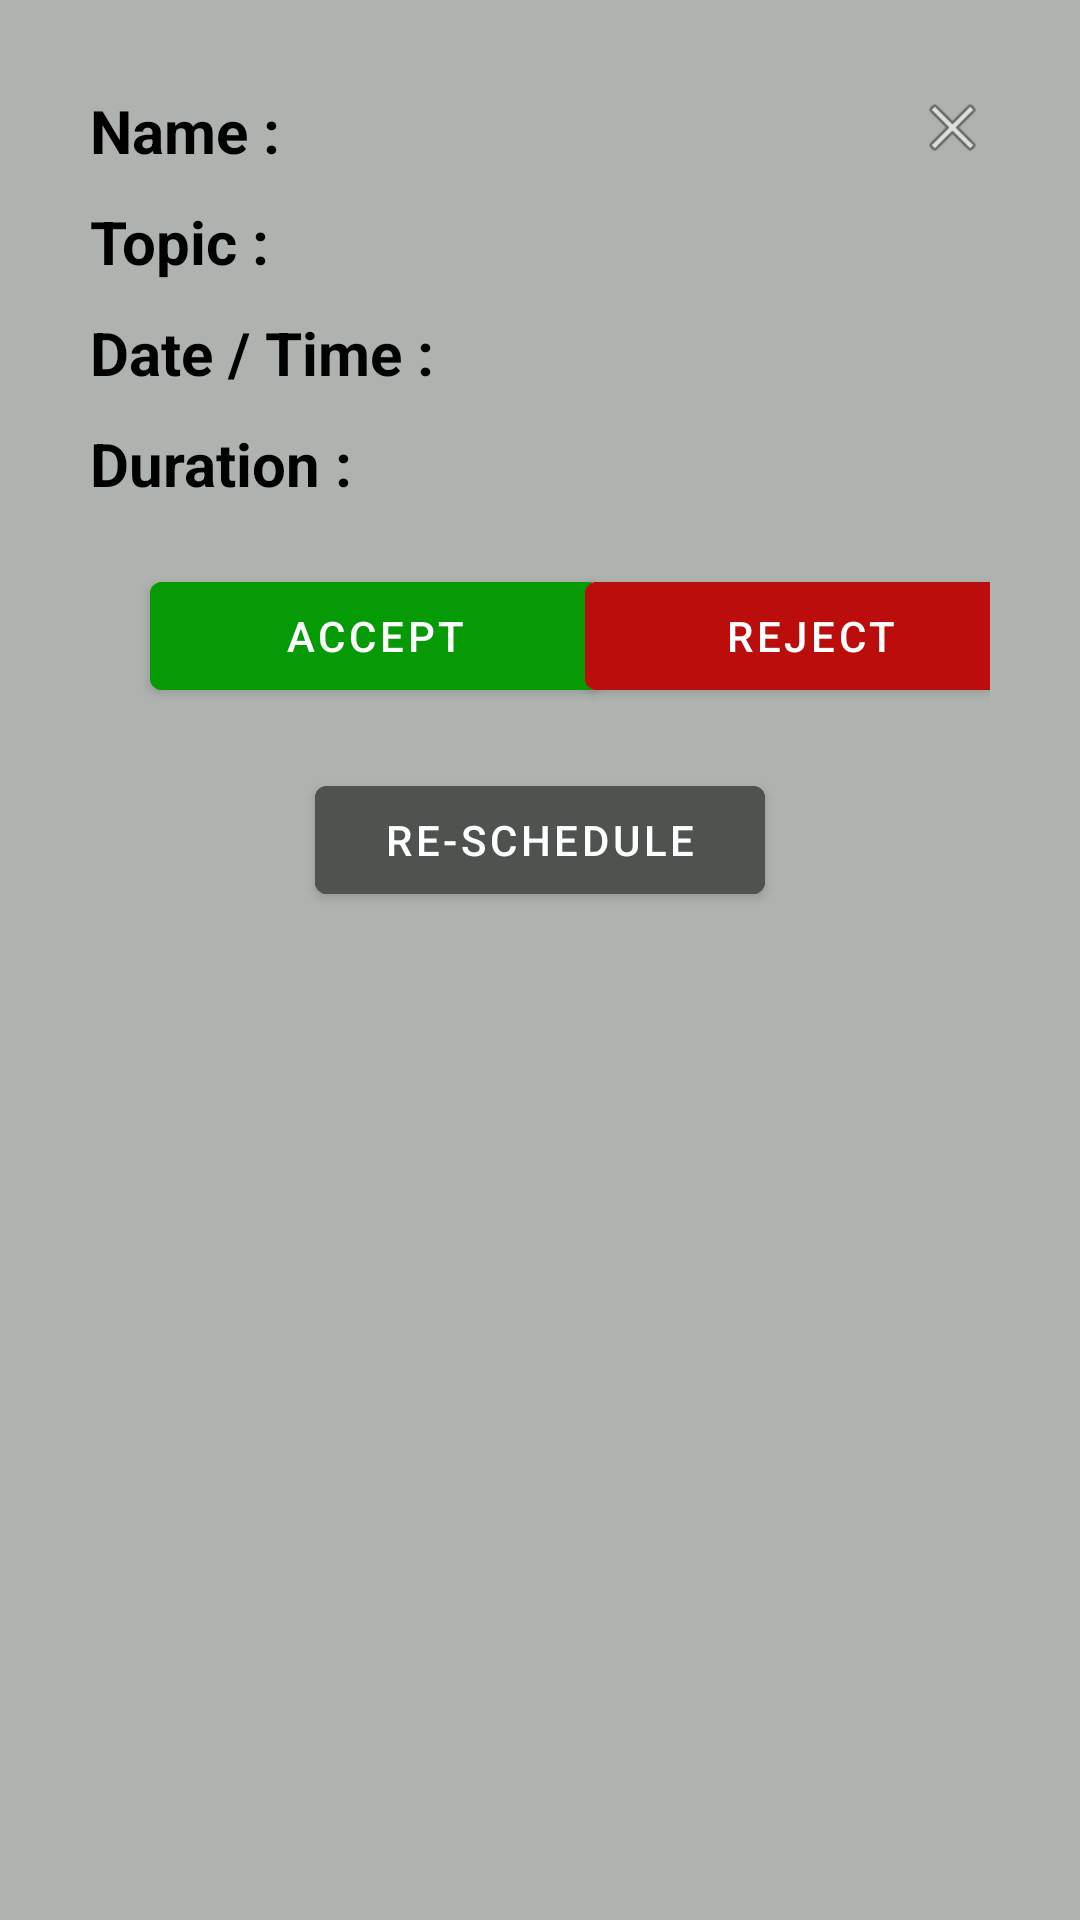

Locate icon controls on the screen. Image size 1080w x 1920h, boxes as region(x1, y1, x2, y2).
close clear cancel: region(929, 104, 976, 151)
